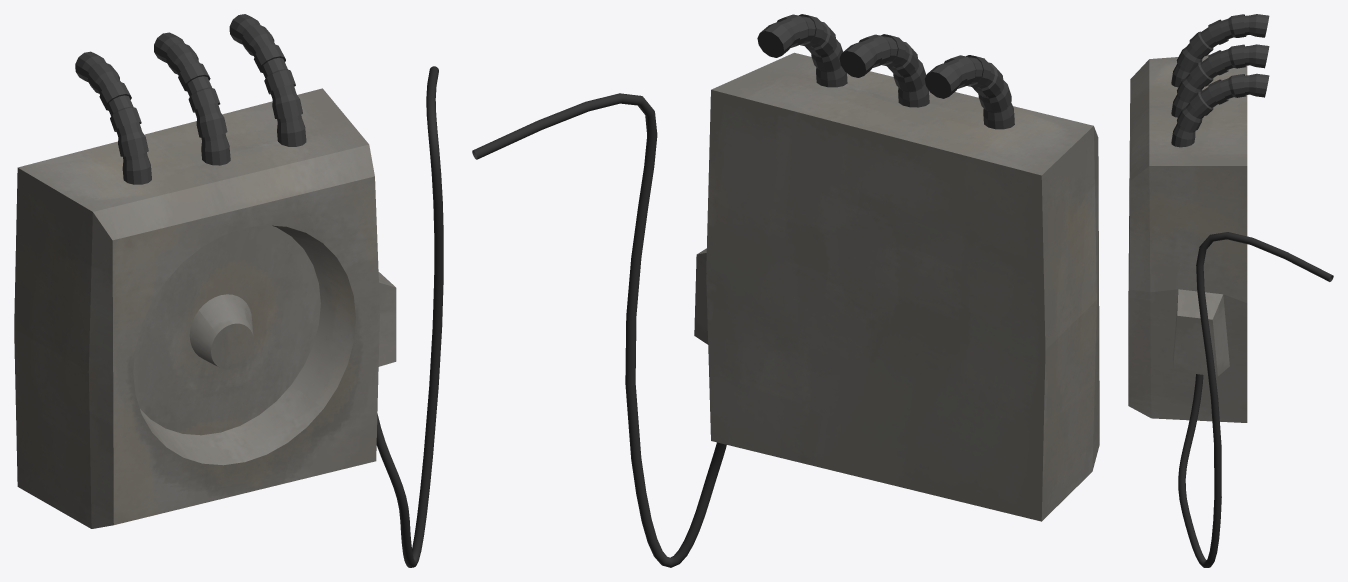
The model's file is ventilator.fbx.
The picture shows the model from 3 angles, left to right: view 1: azimuth 30°, elevation 25°; view 2: azimuth 150°, elevation 25°; view 3: azimuth 270°, elevation 25°; orthographic projection. The views are drawn at different scales.
Visible parts, largest first — view 1: BezierCurve; view 2: BezierCurve; view 3: BezierCurve.
Boxes of the visible parts, x1,y1,x2,y2 form: BezierCurve: (14,14,443,567); BezierCurve: (472,14,1099,567); BezierCurve: (1128,14,1333,567).
Size of the model in its own units: 76.84 by 85.83 by 36.11.
